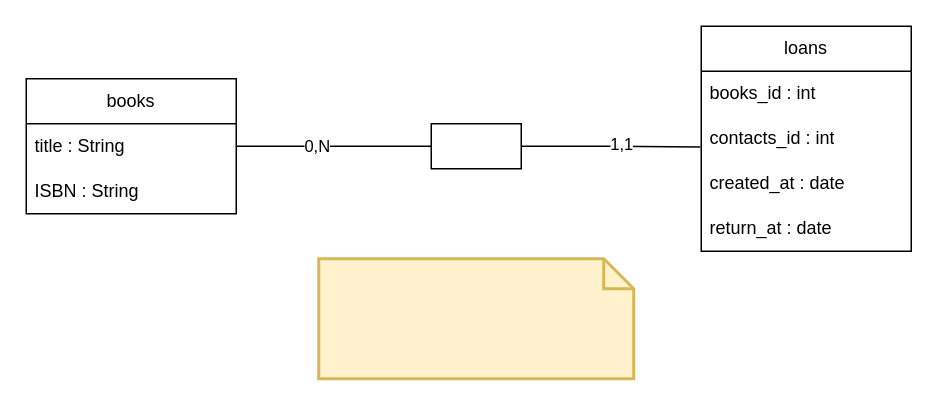
This 938x408 diagram has some shape labels left out. The shapes that lost their labels are listed below. From the top down, each one's centre as x and y in pixels, then its label:
the point at 475,145: be
the point at 475,318: JAV1 - Menoud Yann - MCD App for loaning books Version 1.0 Created at 04.05.2023
